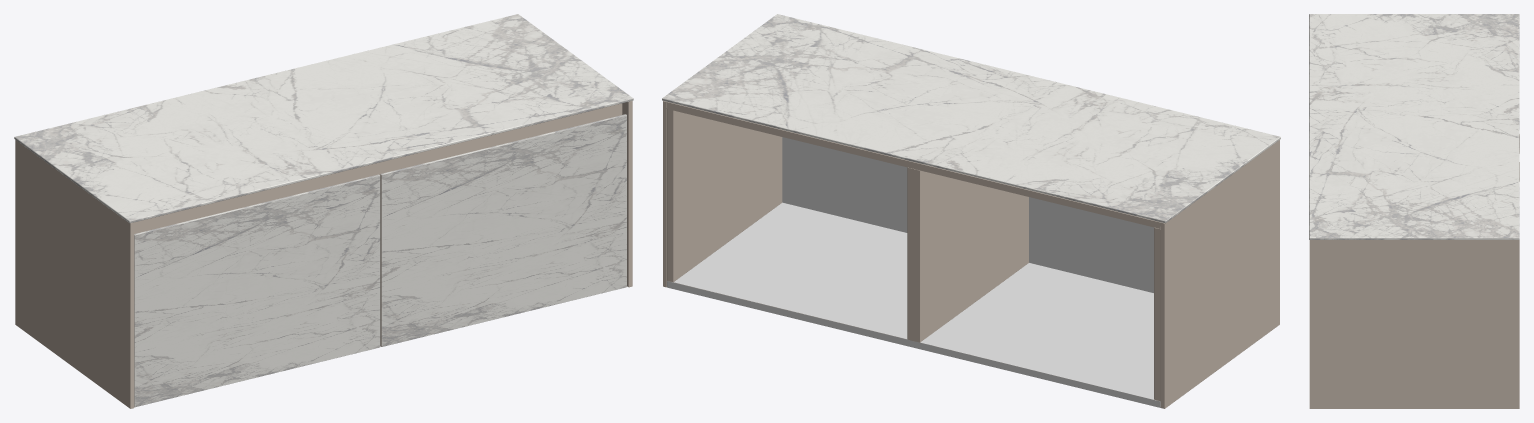
The picture shows the model from 3 angles, left to right: view 1: azimuth 30°, elevation 25°; view 2: azimuth 150°, elevation 25°; view 3: azimuth 270°, elevation 25°; orthographic projection. The views are drawn at different scales.
Visible parts, largest first — view 1: EL02; view 2: EL02; view 3: EL02.
Boxes of the visible parts, x1=… form: EL02: x1=14, y1=14, x2=633, y2=408; EL02: x1=662, y1=14, x2=1280, y2=408; EL02: x1=1309, y1=14, x2=1519, y2=408.
Size of the model in its own units: 1.25 by 0.446 by 0.4966.
4 materials, 1 textured.
